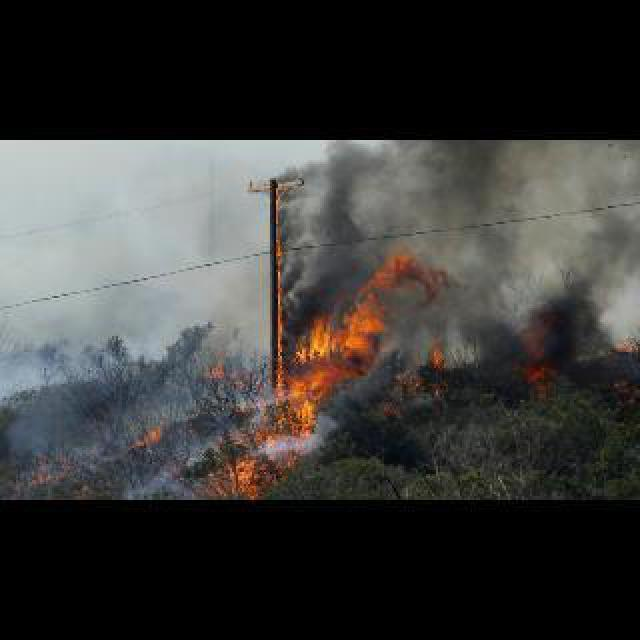Fire: (214, 208, 412, 488)
Smoke: (276, 138, 388, 326)
